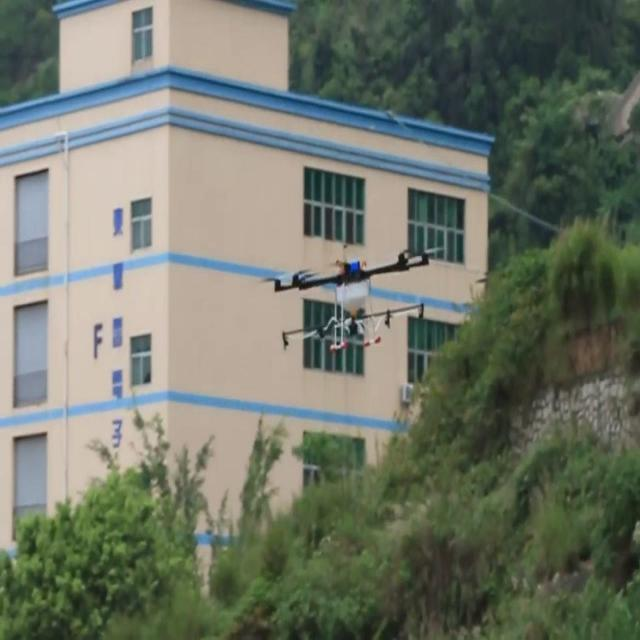UAV: (263, 248, 443, 352)
